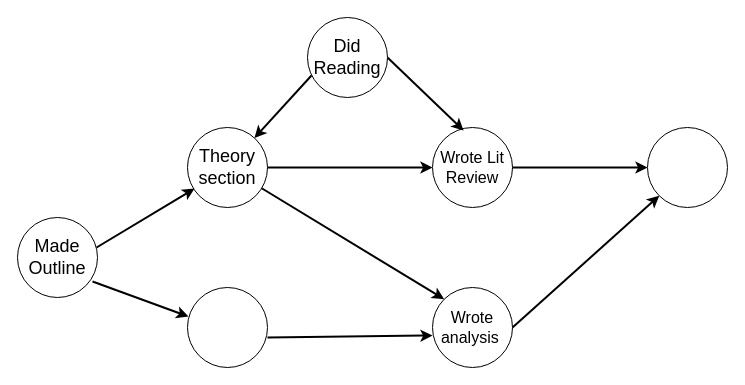
Image size: 745x385. Some labels were removed from this diagram. Each missing label, with the centre of its shape:
"Collected Data" belongs at [227,327].
"Full draft" belongs at [687,167].
